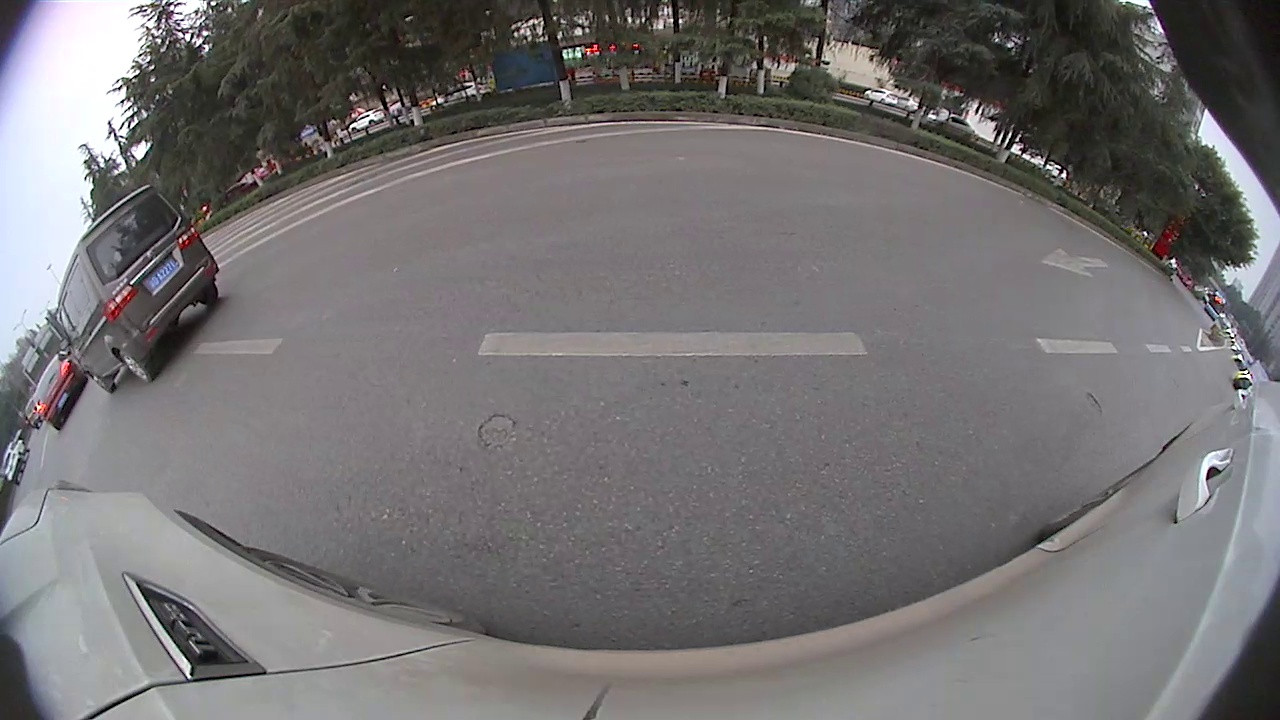car: (54, 179, 225, 393), (31, 352, 93, 434)
rear: (118, 347, 157, 384)
